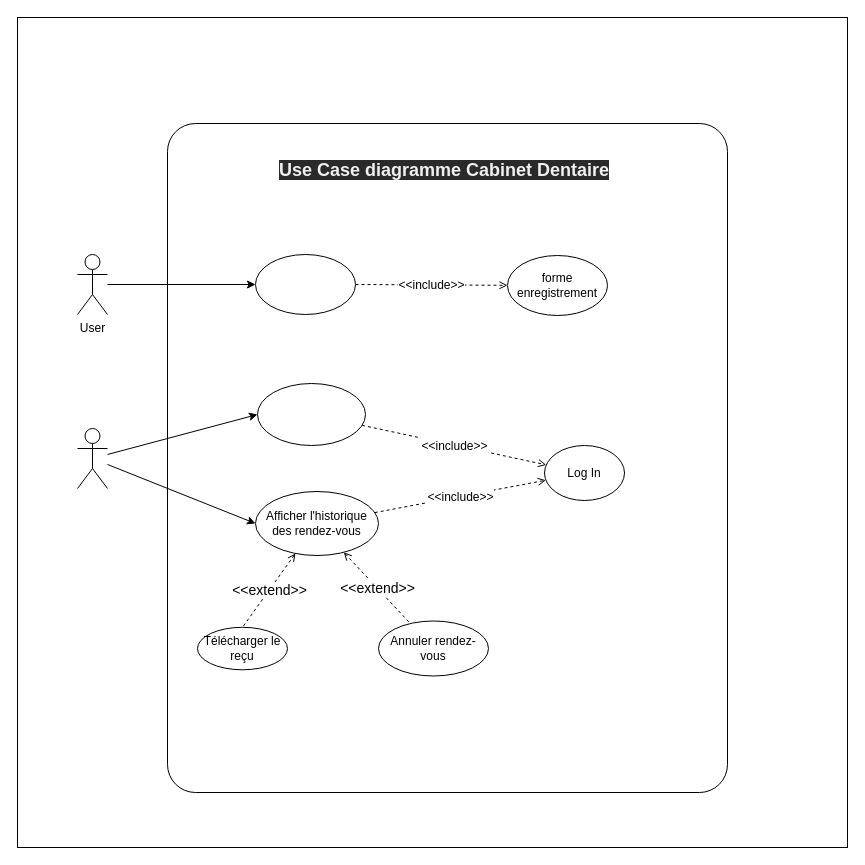
The diagram is 865 pixels wide and 865 high, and some of its shapes have lost their labels. The shapes that lost their labels are listed below. From the top down, each one's centre as x and y in pixels, then its label:
the point at 305,284: Erengistrer
the point at 311,414: prendre rendez-vous
the point at 92,458: Client
